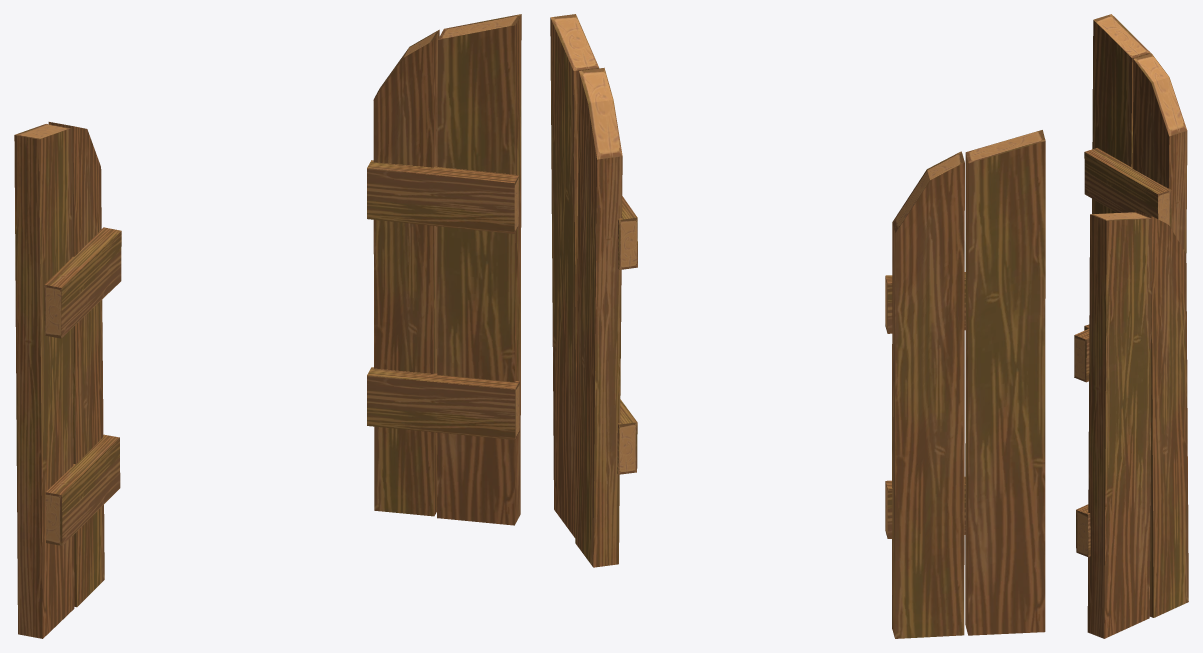
The model's file is WindowShutters_Thin_Round_Open.gltf.
3 views of the same model, side by side, from view 1: azimuth 30°, elevation 25°; view 2: azimuth 150°, elevation 25°; view 3: azimuth 270°, elevation 25° (orthographic). The views are drawn at different scales.
Visible parts, largest first — view 1: WindowShutters_Thin_Round_Open; view 2: WindowShutters_Thin_Round_Open; view 3: WindowShutters_Thin_Round_Open.
Boxes of the visible parts, bbox=[...] form: WindowShutters_Thin_Round_Open: bbox=[14, 14, 521, 638]; WindowShutters_Thin_Round_Open: bbox=[550, 14, 1045, 638]; WindowShutters_Thin_Round_Open: bbox=[1074, 14, 1188, 638].
Size of the model in its own units: 1.61 by 1.52 by 0.3765.
1 material, 1 textured.
